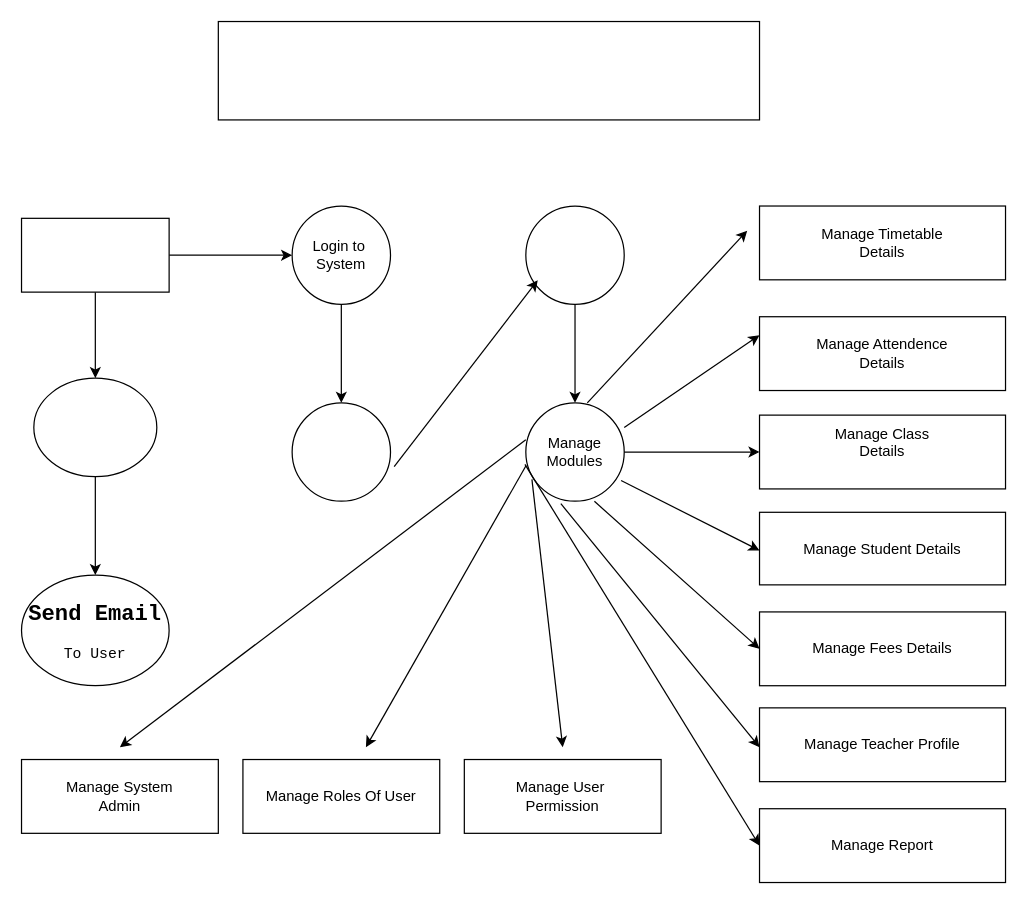
Some shapes in this 1027 by 904 pixel diagram are drawn without their labels. The centre of each missing label's shape, as x and y in pixels:
Admin: [94,254]
Check Credentials: [341,451]
Check Roles Of Access: [574,254]
Forgot password: [95,427]
Student Information system: [488,70]
